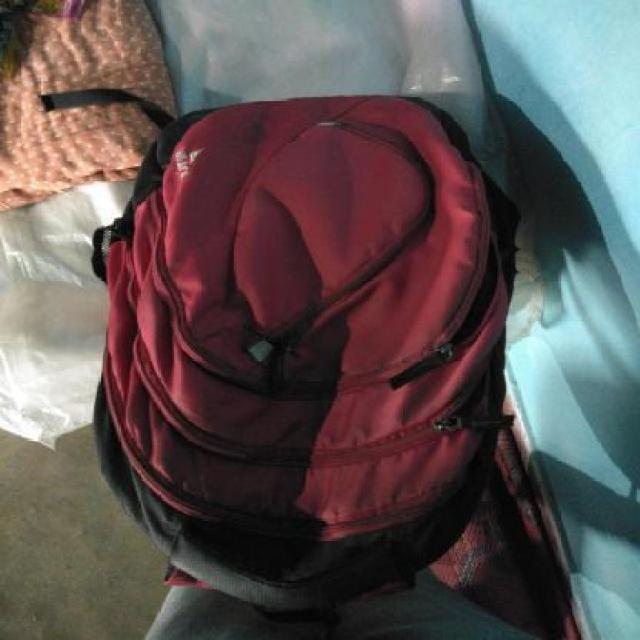backpack: (89, 92, 522, 618)
